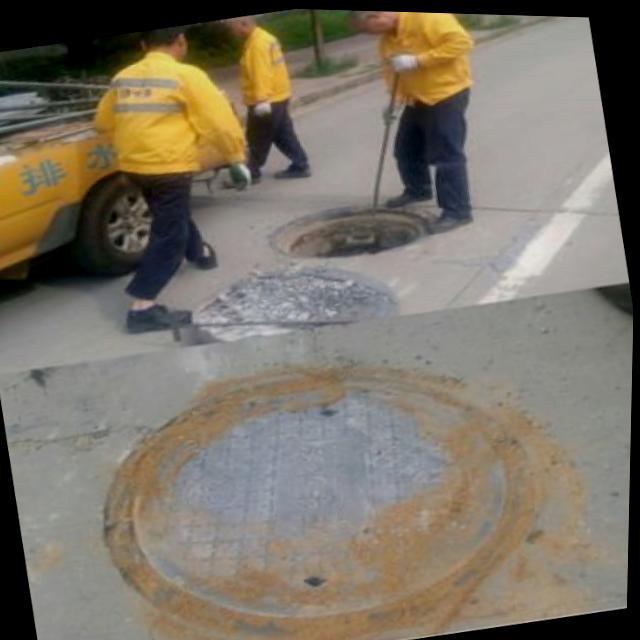manhole: (253, 184, 438, 275)
